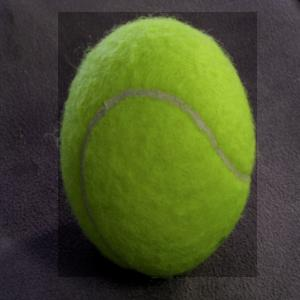TennisBall: (59, 13, 259, 279)
